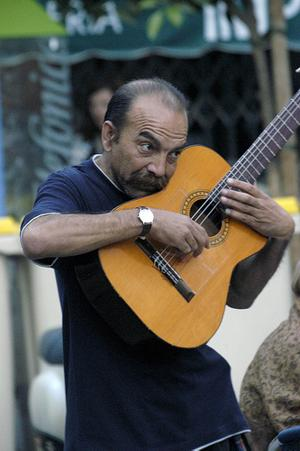person: (20, 77, 296, 450)
